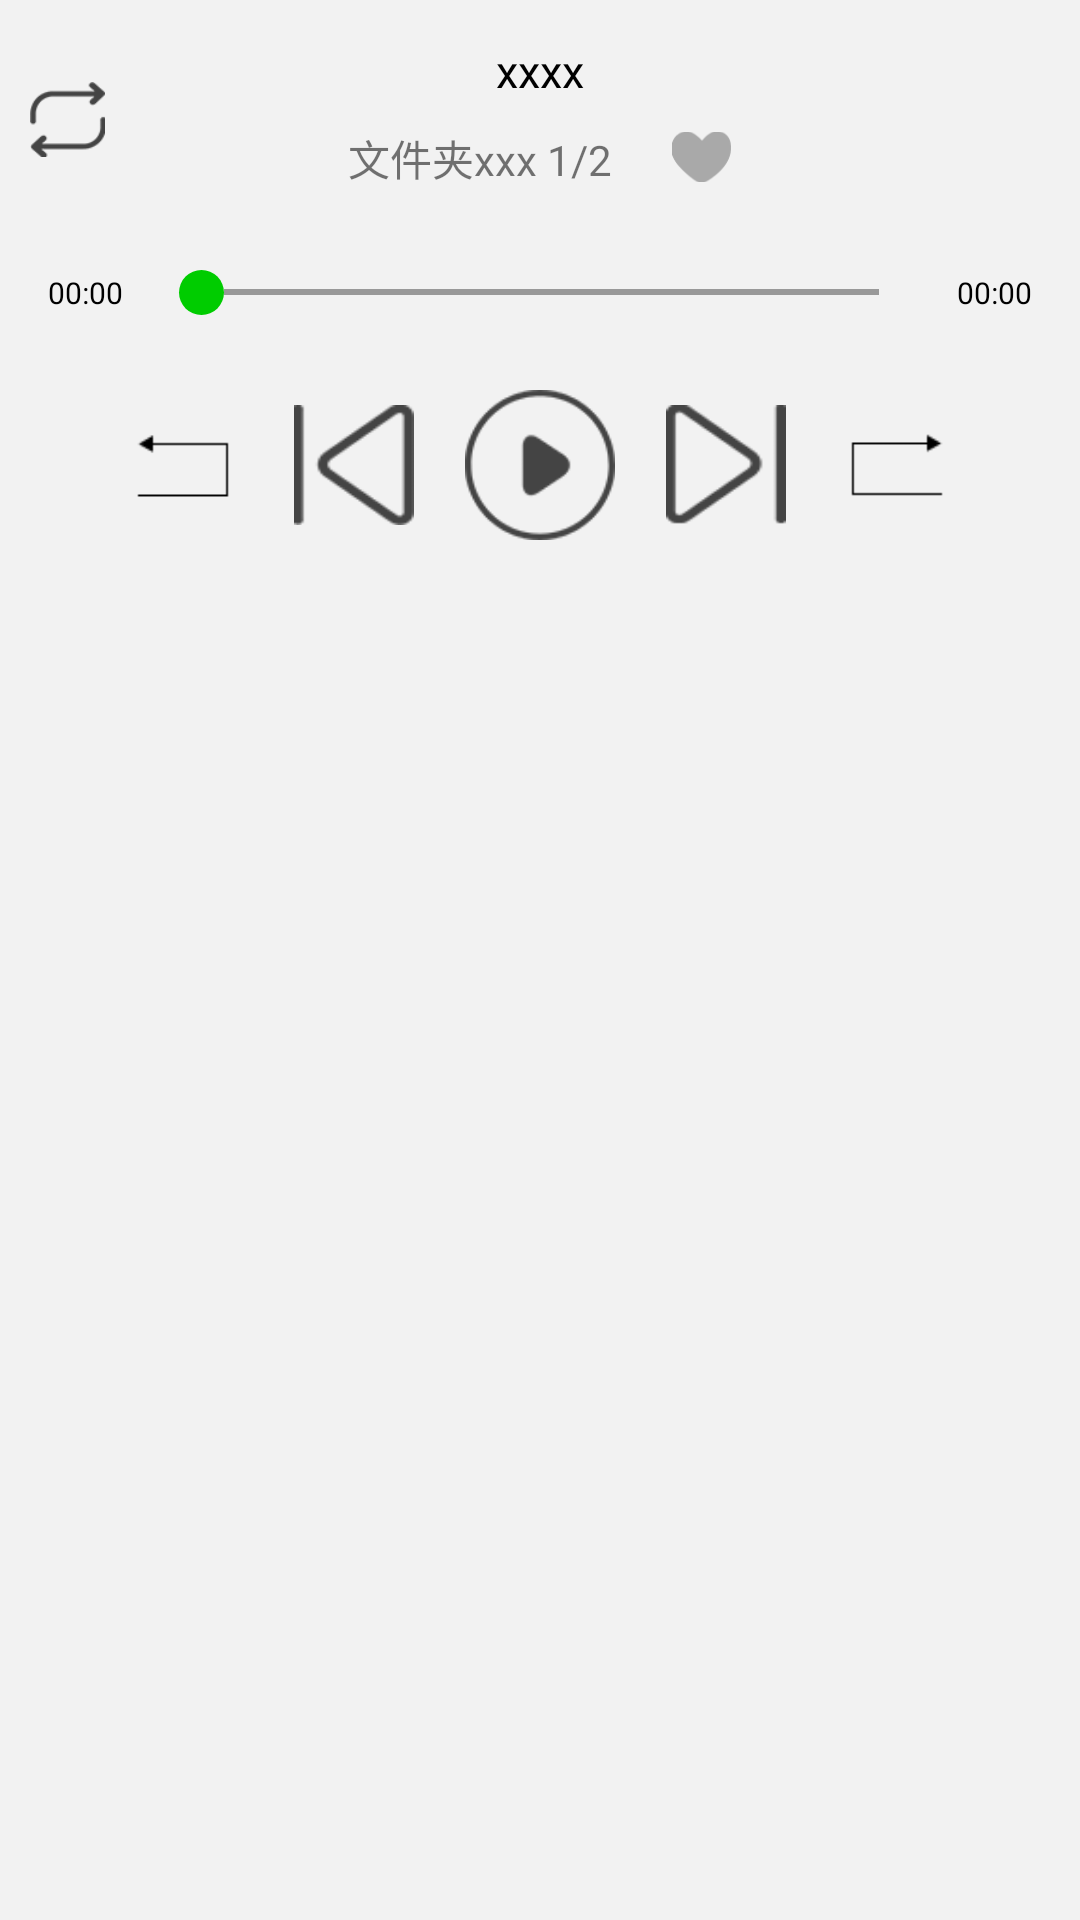

Icons on this 1080x1920 Android screen, each with its box as bbox=[x1, y1, x2, y2]:
love list: bbox=[672, 132, 731, 182]
